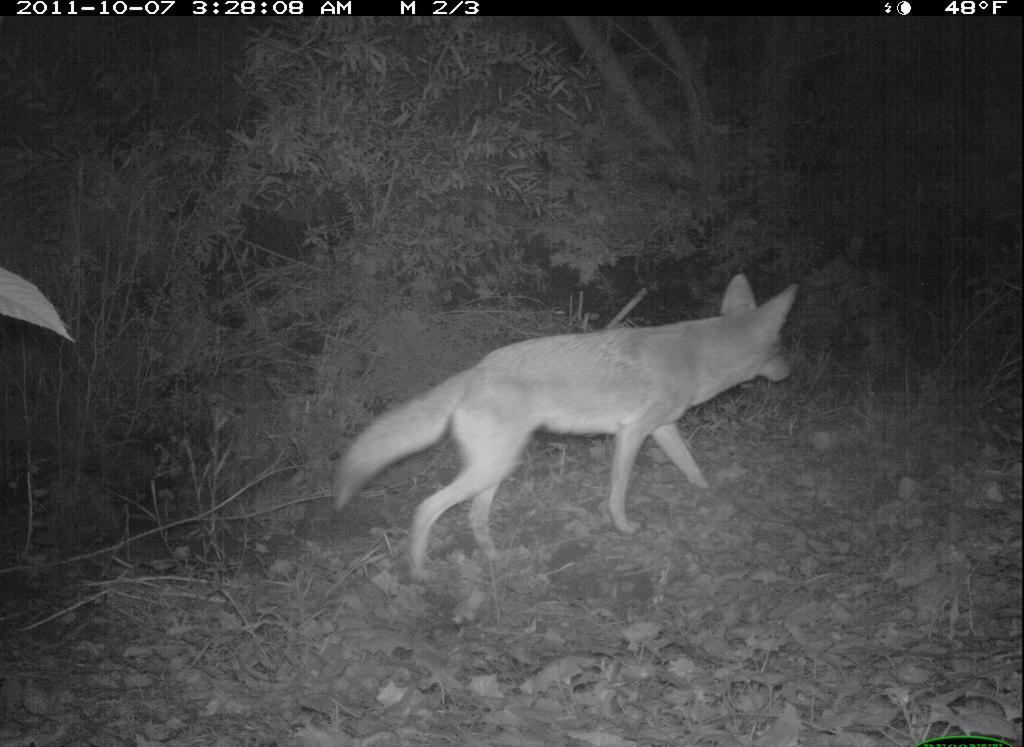coyote: (345, 264, 811, 610)
